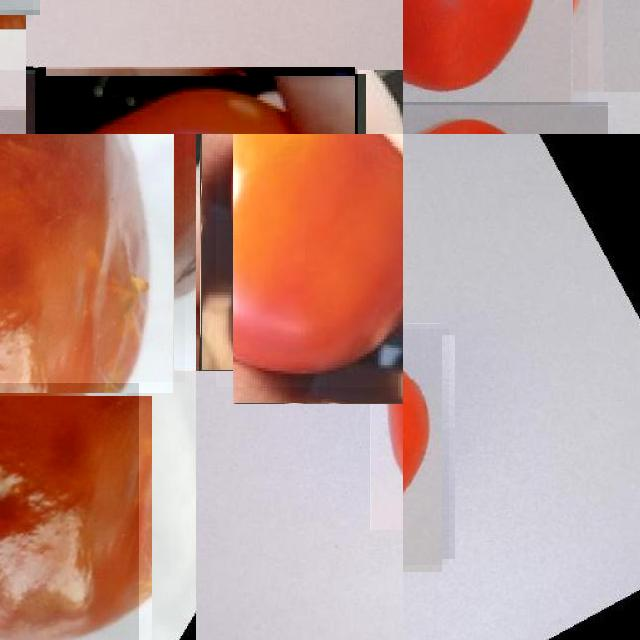Fresh Tomato: (216, 134, 403, 387), (36, 68, 356, 134), (403, 0, 587, 106), (403, 102, 608, 134), (370, 371, 403, 530)
Rotten Tomato: (0, 134, 185, 382), (0, 383, 139, 640)
